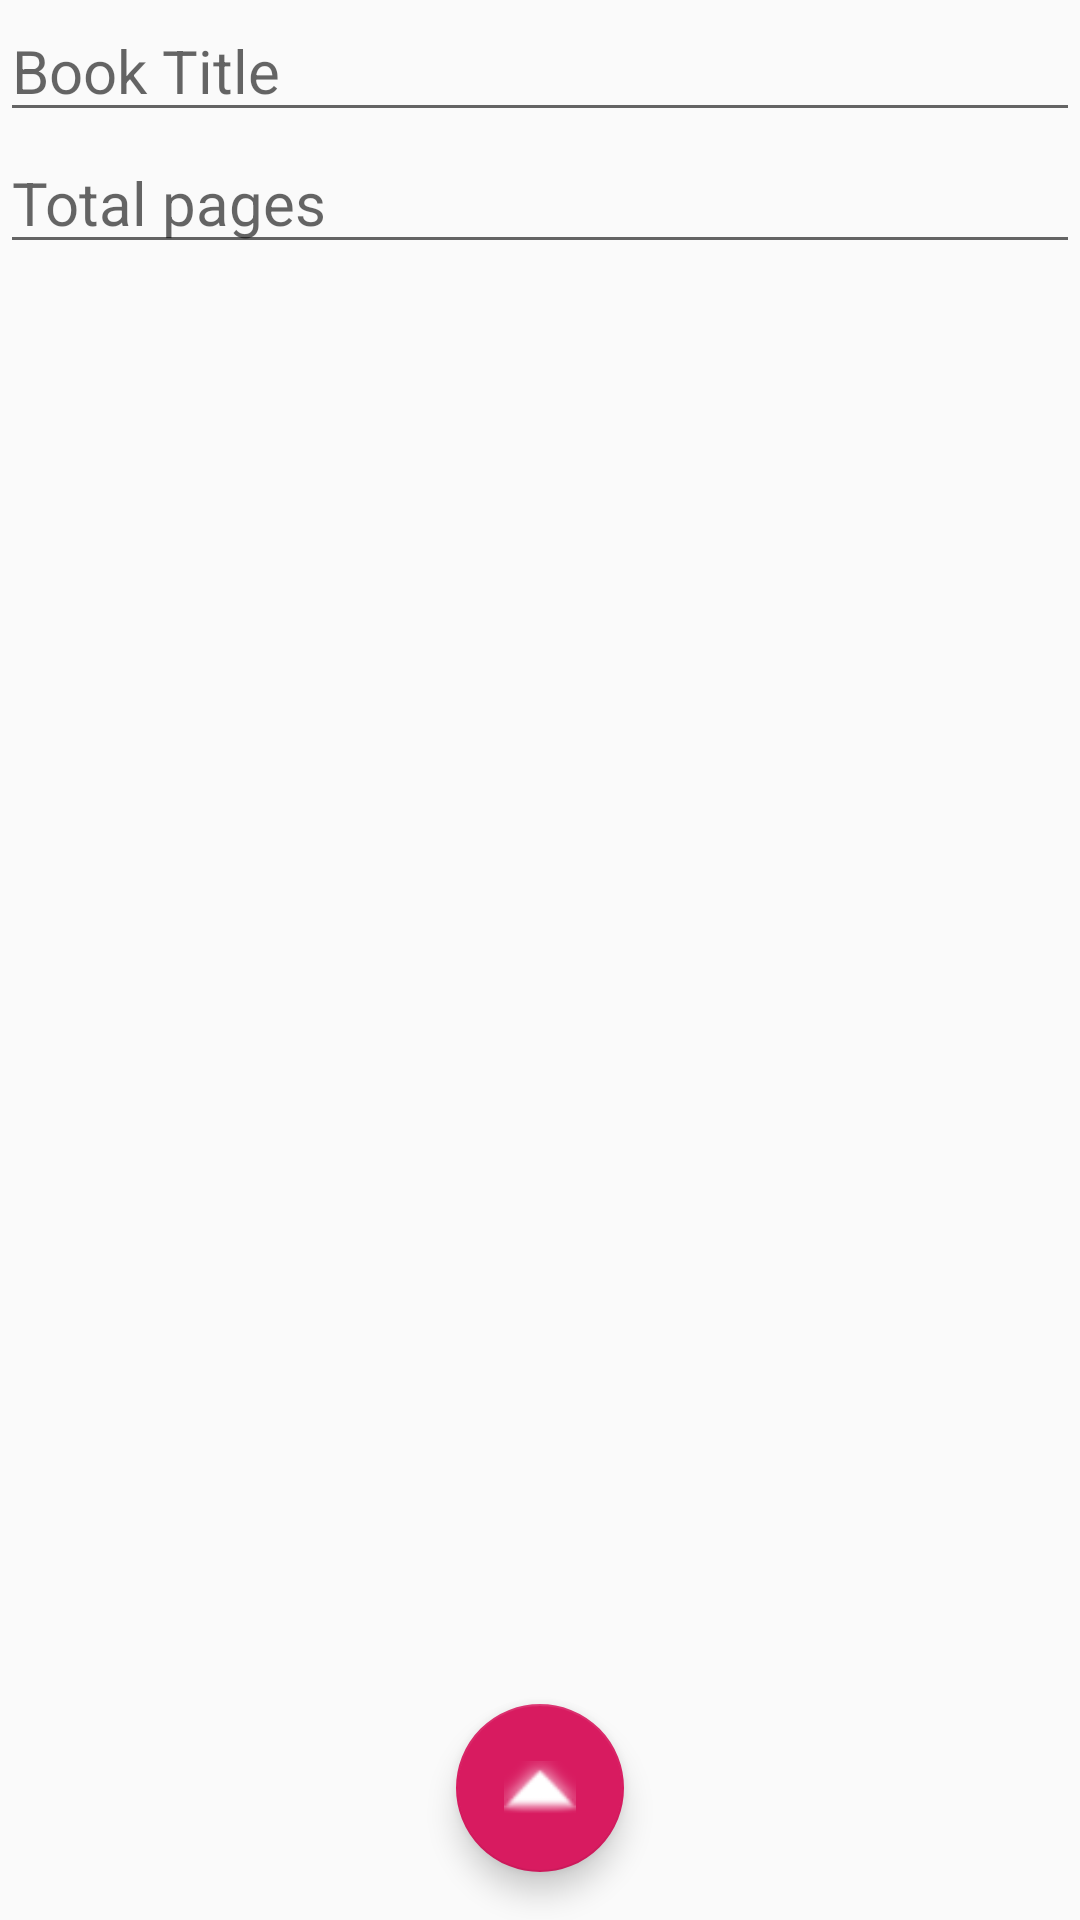

Screen size 1080x1920. Icon name, then its box in pixels as (x1=x1, y1=y1, x2=x2, y2=y2):
arrow up float: (x1=456, y1=1704, x2=624, y2=1872)
